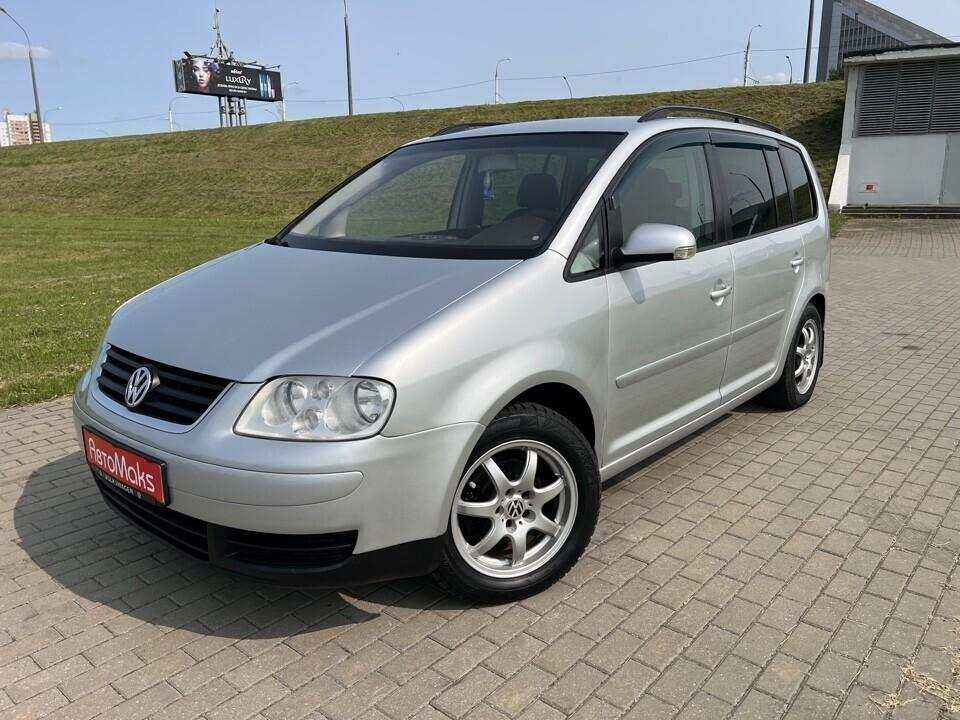Touran_2003-2006: (68, 108, 832, 603)
